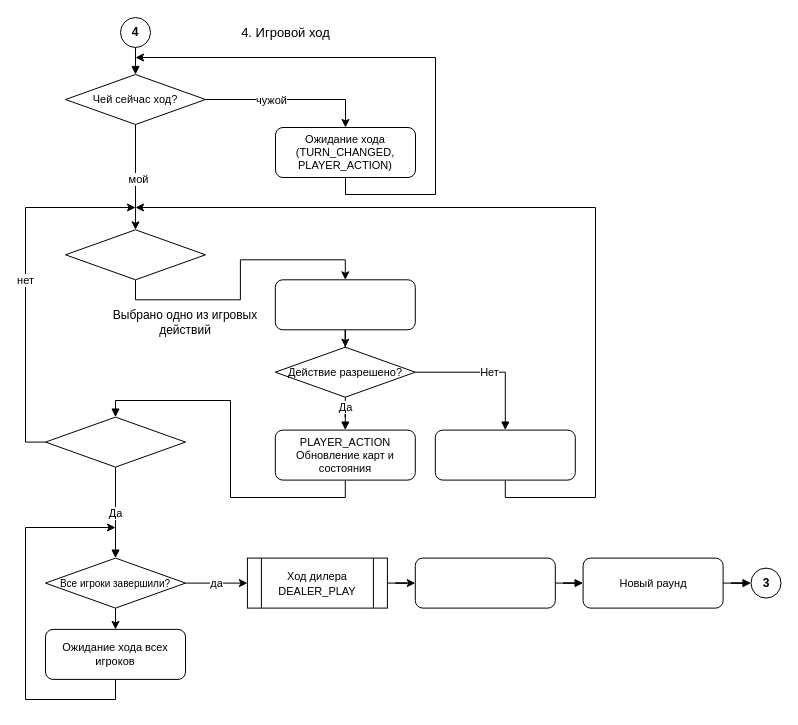
This 798x725 diagram has some shape labels left out. Here are the shapes that lost their labels. From the top down, the centre of each, then its label:
the point at 135,254: Выбор игрового действия
the point at 344,304: Попытка совершить действие (HIT / STAND / DOUBLE / SPLIT / SURRENDER)
the point at 115,441: Ход игрока завершен?
the point at 504,454: ACTION_FAILED "Действие недоступно"
the point at 484,582: Расчет результатов ROUND_RESULT
